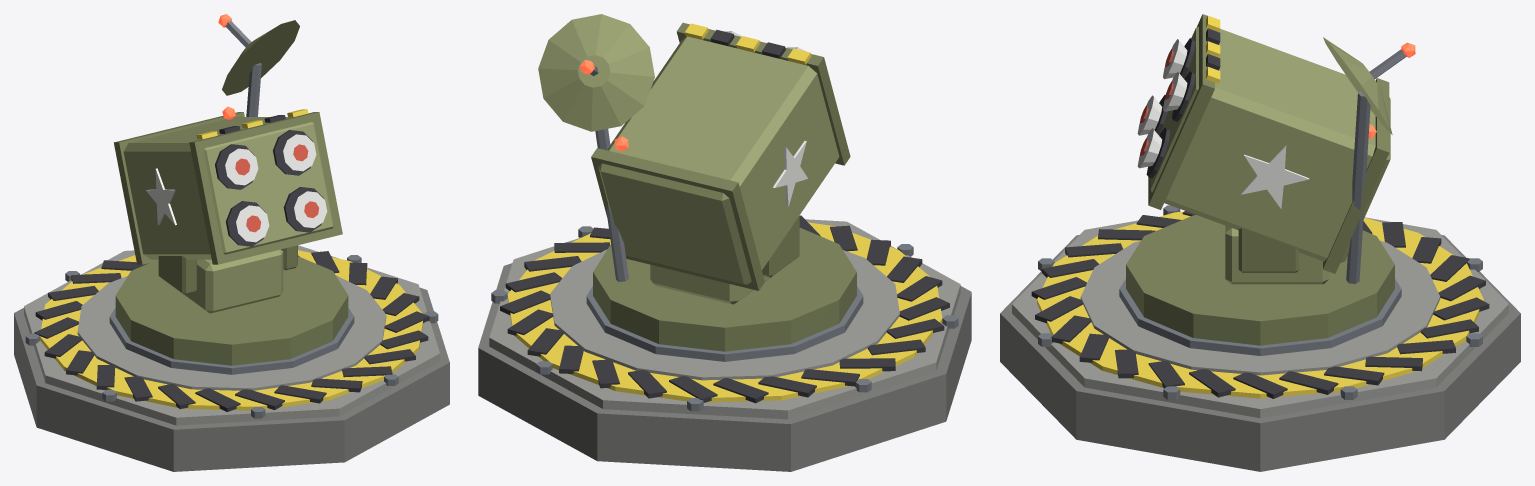
The model's file is missile_launcher.glb.
3 renders of one model, left to right at view 1: azimuth 30°, elevation 25°; view 2: azimuth 150°, elevation 25°; view 3: azimuth 270°, elevation 25°, orthographic. The views are drawn at different scales.
Parts seen in each view (by area): view 1: Cylinder.206, Cylinder.218, Cube.188, Cylinder.209, Cylinder.207, Cylinder.208, Cube.189, Cube.185, Cylinder.219, Cone.022, Cube.190, Cube.186 (+26 smaller); view 2: Cube.188, Cylinder.206, Cylinder.218, Cylinder.209, Cone.022, Cylinder.207, Cylinder.208, Cube.190, Cylinder.219, Cube.185, Cube.189, Cylinder.220 (+22 smaller); view 3: Cylinder.206, Cube.188, Cylinder.218, Cylinder.209, Cylinder.207, Cylinder.208, Cylinder.219, Cube.189, Cube.190, Cube.185, Cylinder.220, Cube.187 (+24 smaller).
Part boxes in pixels (x1=…): Cylinder.206: x1=14, y1=287, x2=449, y2=471; Cylinder.218: x1=115, y1=256, x2=348, y2=365; Cube.188: x1=123, y1=117, x2=333, y2=259; Cylinder.209: x1=77, y1=275, x2=386, y2=390; Cylinder.207: x1=24, y1=245, x2=439, y2=425; Cylinder.208: x1=40, y1=250, x2=423, y2=410; Cube.189: x1=189, y1=112, x2=342, y2=264; Cube.185: x1=174, y1=249, x2=283, y2=313; Cylinder.219: x1=109, y1=308, x2=354, y2=374; Cone.022: x1=222, y1=20, x2=299, y2=95; Cube.190: x1=113, y1=112, x2=244, y2=264; Cube.186: x1=158, y1=256, x2=196, y2=294; Cube.188: x1=598, y1=36, x2=839, y2=284; Cylinder.206: x1=478, y1=263, x2=971, y2=471; Cylinder.218: x1=593, y1=227, x2=856, y2=351; Cylinder.209: x1=550, y1=249, x2=899, y2=380; Cone.022: x1=538, y1=14, x2=654, y2=131; Cylinder.207: x1=489, y1=219, x2=960, y2=419; Cylinder.208: x1=507, y1=222, x2=942, y2=402; Cube.190: x1=591, y1=148, x2=764, y2=290; Cylinder.219: x1=586, y1=286, x2=863, y2=361; Cube.185: x1=650, y1=264, x2=774, y2=304; Cube.189: x1=676, y1=22, x2=850, y2=165; Cylinder.220: x1=595, y1=128, x2=628, y2=281; Cylinder.206: x1=1000, y1=235, x2=1520, y2=471; Cube.188: x1=1150, y1=27, x2=1390, y2=262; Cylinder.218: x1=1126, y1=215, x2=1394, y2=345; Cylinder.209: x1=1080, y1=240, x2=1440, y2=375; Cylinder.207: x1=1012, y1=217, x2=1508, y2=418; Cylinder.208: x1=1037, y1=211, x2=1483, y2=398; Cylinder.219: x1=1119, y1=279, x2=1401, y2=355; Cube.189: x1=1148, y1=14, x2=1214, y2=209; Cube.190: x1=1323, y1=78, x2=1389, y2=273; Cube.185: x1=1225, y1=225, x2=1329, y2=284; Cylinder.220: x1=1346, y1=91, x2=1370, y2=283; Cube.187: x1=1238, y1=228, x2=1298, y2=272.
Size of the model in its own units: 3.1 by 2.39 by 3.1.
